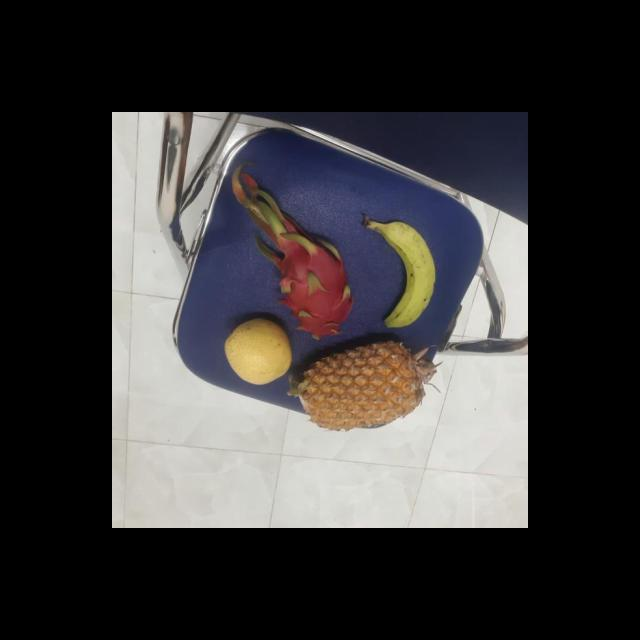banana: (367, 221, 435, 329)
pear: (220, 316, 294, 386)
pineapple: (293, 338, 428, 435)
pitaya: (269, 239, 354, 339)
